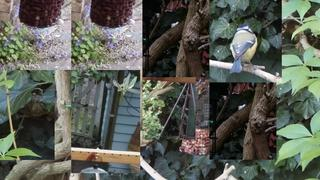blue tit: (229, 24, 258, 73)
